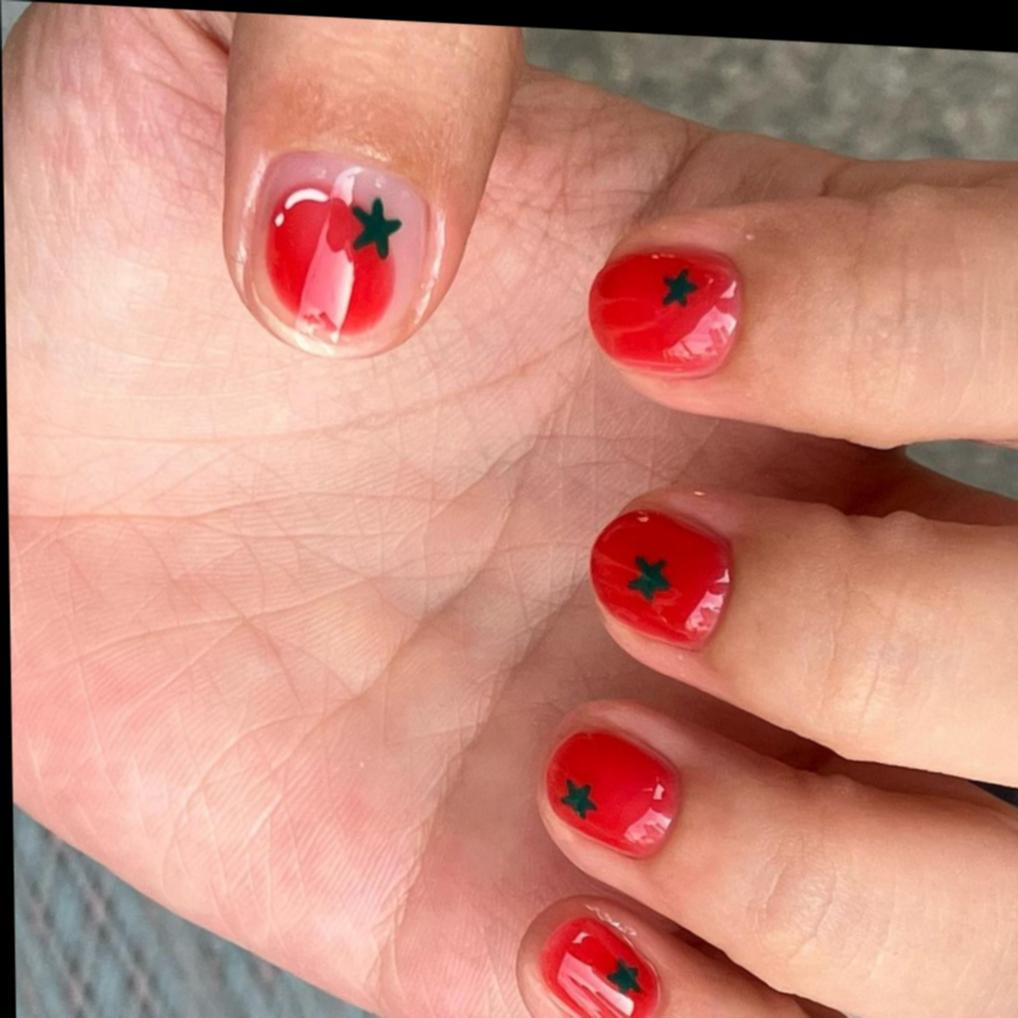nail: (236, 142, 446, 363), (583, 241, 743, 383), (585, 502, 733, 654), (539, 723, 682, 861), (535, 910, 662, 1018)
